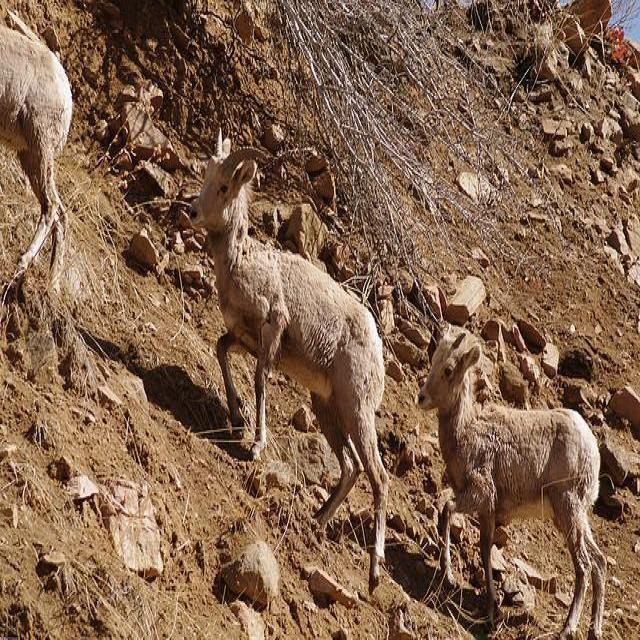Sheep: (188, 124, 390, 598), (416, 324, 607, 634), (0, 24, 72, 295)
